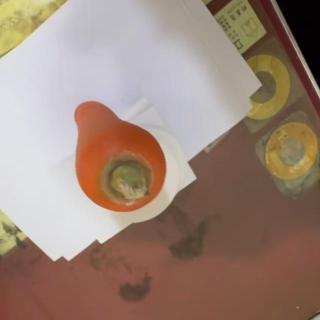carrot: (70, 102, 168, 215)
